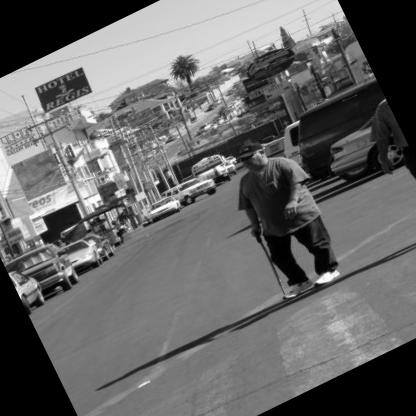car: (13, 243, 77, 304), (55, 233, 105, 278), (173, 170, 221, 212), (139, 189, 184, 231)
